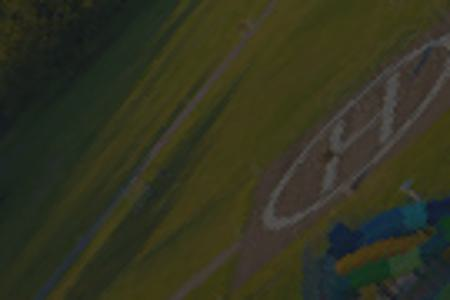Apron: (252, 28, 450, 233)
